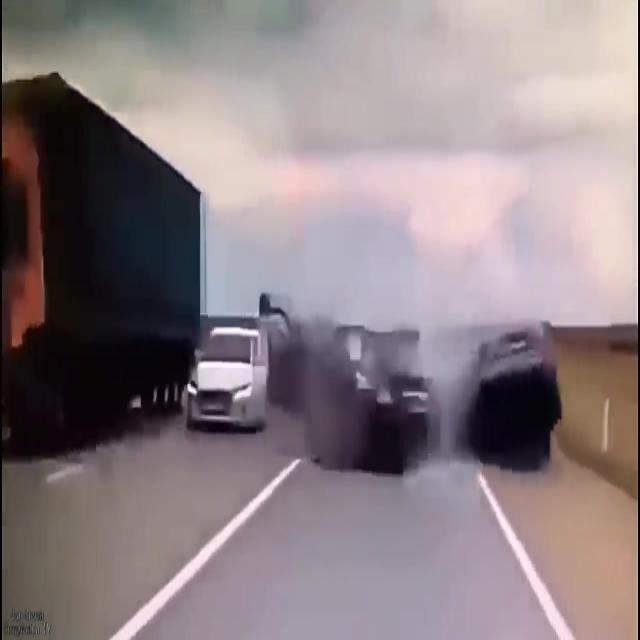accident: (280, 281, 574, 488)
